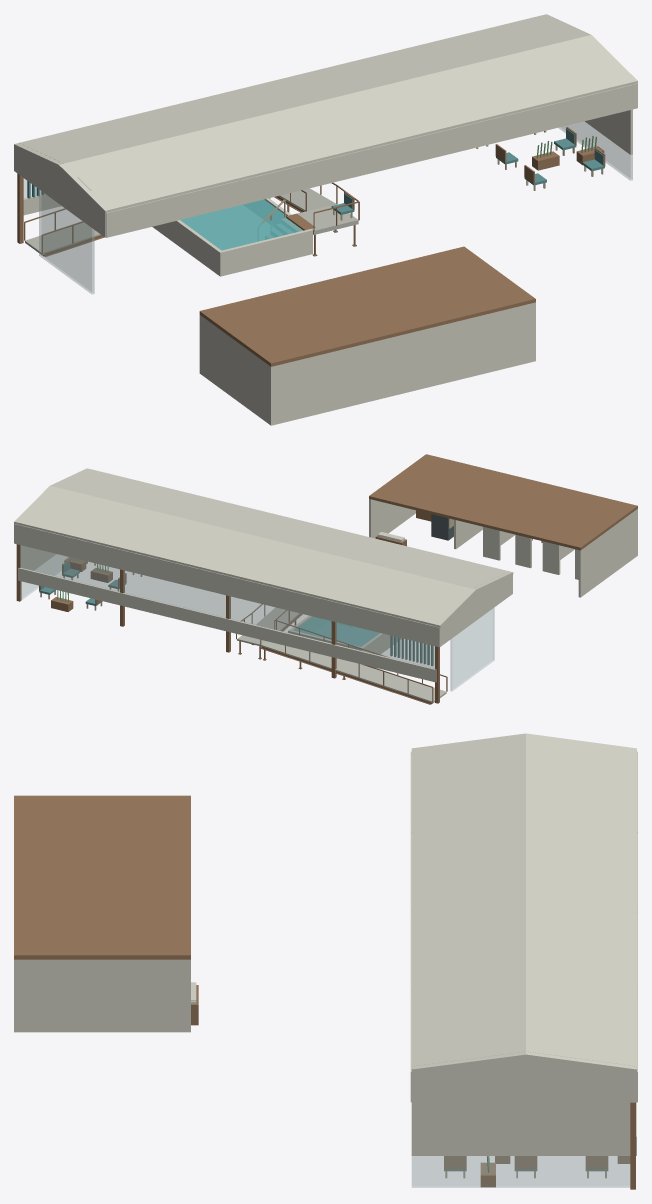
Rendered from VIP_QUIET_FITTED_r010.glb.
3 renders of one model, top to bottom at view 1: azimuth 30°, elevation 25°; view 2: azimuth 150°, elevation 25°; view 3: azimuth 270°, elevation 25°, orthographic. The views are drawn at different scales.
Parts seen in each view (by area): view 1: F010__G2VIP_QUIET_RoofPanel1, F010__G2VIP_QUIET_AftRoof, F010__G2VIP_QUIET_RoofPanel0, F010__G2VIP_QUIET_AftBack, QUIET_F010_Weather_Aft, F010__G2VIP_QUIET_AftWest, QUIET_F010_InnerWallBody, QUIET_F010_Water_Illustrative, QUIET_F010_TankAft, QUIET_F010_Weather_Side-1Aft, QUIET_F010_OuterWallLower, QUIET_F010_TankWest (+5 smaller); view 2: F010__G2VIP_QUIET_RoofPanel0, F010__G2VIP_QUIET_AftRoof, F010__G2VIP_QUIET_RoofPanel1, F010__G2VIP_QUIET_ForeClerestory, QUIET_F010_Weather_Fore, F010__G2VIP_QUIET_ForePlinth, F010__G2VIP_QUIET_AftWest, QUIET_F010_InnerWallBody, QUIET_F010_RampLeg1, QUIET_F010_Water_Illustrative, F010__G2VIP_QUIET_AftEast, QUIET_F010_Weather_Side-1Aft (+10 smaller); view 3: F010__G2VIP_QUIET_RoofPanel1, F010__G2VIP_QUIET_RoofPanel0, F010__G2VIP_QUIET_AftRoof, F010__G2VIP_QUIET_AftEast, F010__G2VIP_QUIET_OuterWall, QUIET_F010_OuterWallLower, QUIET_F010_Weather_Side1Aft, QUIET_F010_Weather_Side1Fore, QUIET_F010_EaveCap1Aft, QUIET_F010_EaveCap1Fore, QUIET_F010_Weather_Aft.
Boxes of the visible parts, x1,y1,x2,y2 form: F010__G2VIP_QUIET_RoofPanel1: (64,36,632,211); F010__G2VIP_QUIET_AftRoof: (199,246,535,366); F010__G2VIP_QUIET_RoofPanel0: (19,15,585,163); F010__G2VIP_QUIET_AftBack: (269,302,535,425); QUIET_F010_Weather_Aft: (106,83,637,237); F010__G2VIP_QUIET_AftWest: (199,315,269,424); QUIET_F010_InnerWallBody: (39,189,94,294); QUIET_F010_Water_Illustrative: (180,199,302,250); QUIET_F010_TankAft: (218,229,312,275); QUIET_F010_Weather_Side-1Aft: (59,168,105,237); QUIET_F010_OuterWallLower: (558,121,632,180); QUIET_F010_TankWest: (154,220,221,273); F010__G2VIP_QUIET_RoofPanel0: (18,486,471,626); F010__G2VIP_QUIET_AftRoof: (369,454,637,550); F010__G2VIP_QUIET_RoofPanel1: (54,469,508,588); F010__G2VIP_QUIET_ForeClerestory: (20,545,434,668); QUIET_F010_Weather_Fore: (14,524,439,646); F010__G2VIP_QUIET_ForePlinth: (18,568,436,682); F010__G2VIP_QUIET_AftWest: (578,509,636,597); QUIET_F010_InnerWallBody: (450,607,494,691); QUIET_F010_RampLeg1: (261,641,446,703); QUIET_F010_Water_Illustrative: (294,616,379,646); F010__G2VIP_QUIET_AftEast: (369,499,415,538); QUIET_F010_Weather_Side-1Aft: (476,575,512,620); F010__G2VIP_QUIET_RoofPanel1: (411,736,525,1066); F010__G2VIP_QUIET_RoofPanel0: (526,736,636,1066); F010__G2VIP_QUIET_AftRoof: (14,795,190,959); F010__G2VIP_QUIET_AftEast: (17,959,190,1032); F010__G2VIP_QUIET_OuterWall: (411,1102,630,1155); QUIET_F010_OuterWallLower: (411,1156,630,1187); QUIET_F010_Weather_Side1Aft: (411,1058,525,1102); QUIET_F010_Weather_Side1Fore: (526,1058,636,1102); QUIET_F010_EaveCap1Aft: (411,1051,525,1073); QUIET_F010_EaveCap1Fore: (526,1051,636,1073); QUIET_F010_Weather_Aft: (410,751,411,1102).
Size of the model in its own units: 32.2 by 6.63 by 26.44.
